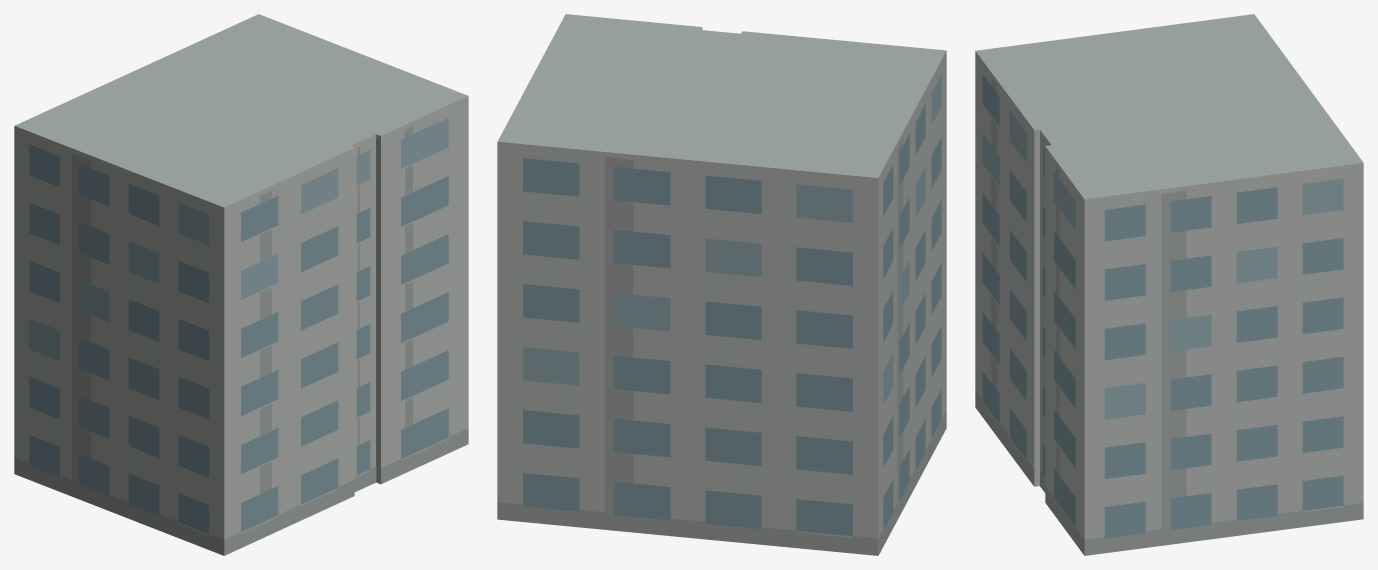
The model's file is survey-upis-32623242.glb.
3 renders of one model, left to right at view 1: azimuth 30°, elevation 25°; view 2: azimuth 150°, elevation 25°; view 3: azimuth 270°, elevation 25°, orthographic. The views are drawn at different scales.
Parts seen in each view (by area): view 1: survey-upis-32623242.tmp; view 2: survey-upis-32623242.tmp; view 3: survey-upis-32623242.tmp.
Boxes of the visible parts, left/top/right/bottom form: survey-upis-32623242.tmp: left=14, top=14, right=468, bottom=555; survey-upis-32623242.tmp: left=497, top=14, right=946, bottom=555; survey-upis-32623242.tmp: left=975, top=14, right=1363, bottom=555.
Bounding box in the file's own units: 19.42 × 17.4 × 17.19.
